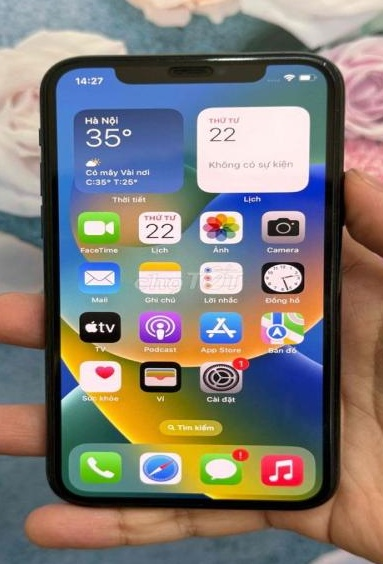scratch: (316, 54, 339, 75)
